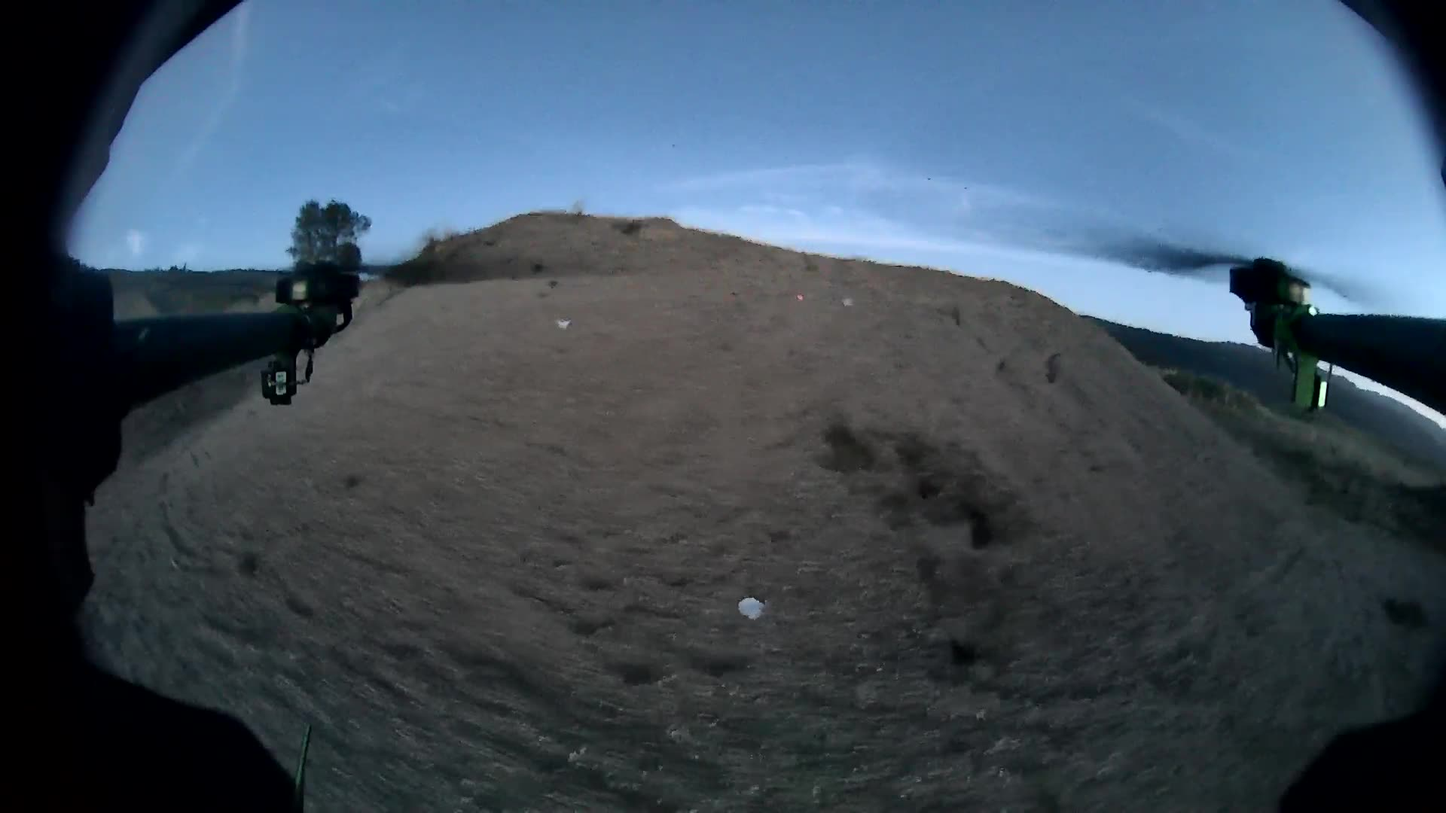Target: (736, 595, 767, 622)
